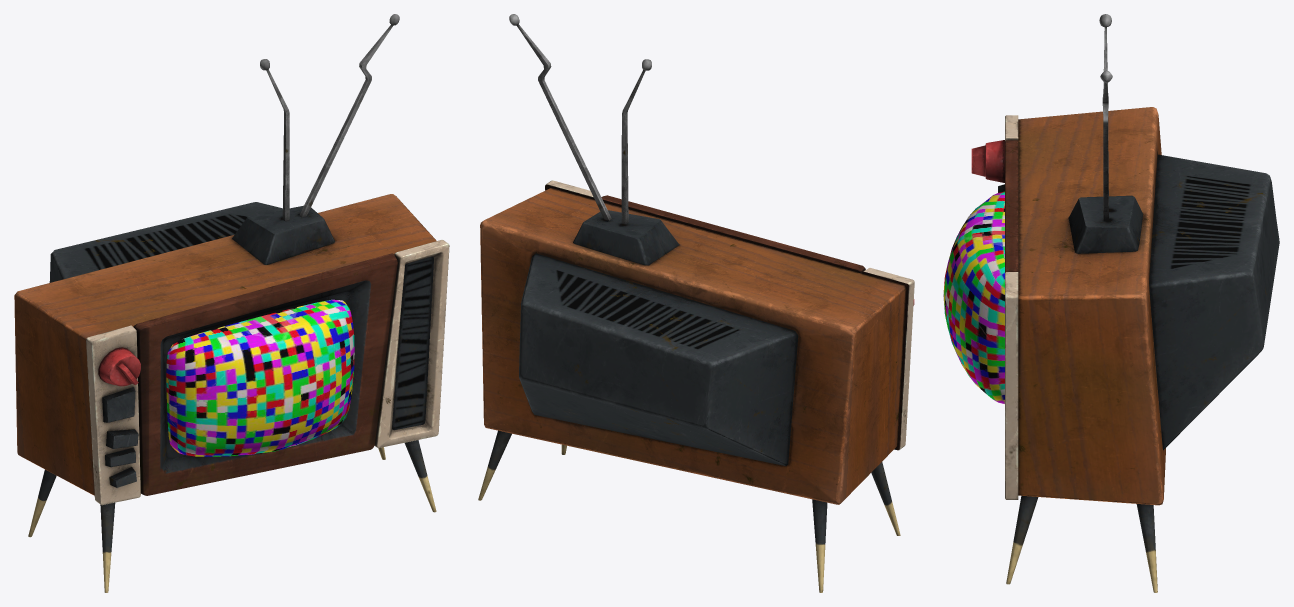
The model's file is Hideout TV1.fbx.
3 renders of one model, left to right at view 1: azimuth 30°, elevation 25°; view 2: azimuth 150°, elevation 25°; view 3: azimuth 270°, elevation 25°, orthographic. The views are drawn at different scales.
Parts seen in each view (by area): view 1: SM_TV_02.041, SM_TV_02.061, SM_TV_Switch; view 2: SM_TV_02.041; view 3: SM_TV_02.041, SM_TV_02.061, SM_TV_Switch.
Boxes of the visible parts, <box> form: SM_TV_02.041: <box>14,14,449,592</box>; SM_TV_02.061: <box>166,299,354,456</box>; SM_TV_Switch: <box>98,347,140,386</box>; SM_TV_02.041: <box>478,14,914,592</box>; SM_TV_02.041: <box>998,14,1279,592</box>; SM_TV_02.061: <box>943,191,1004,403</box>; SM_TV_Switch: <box>971,140,1004,182</box>.
Size of the model in its own units: 105 by 124 by 73.59.
